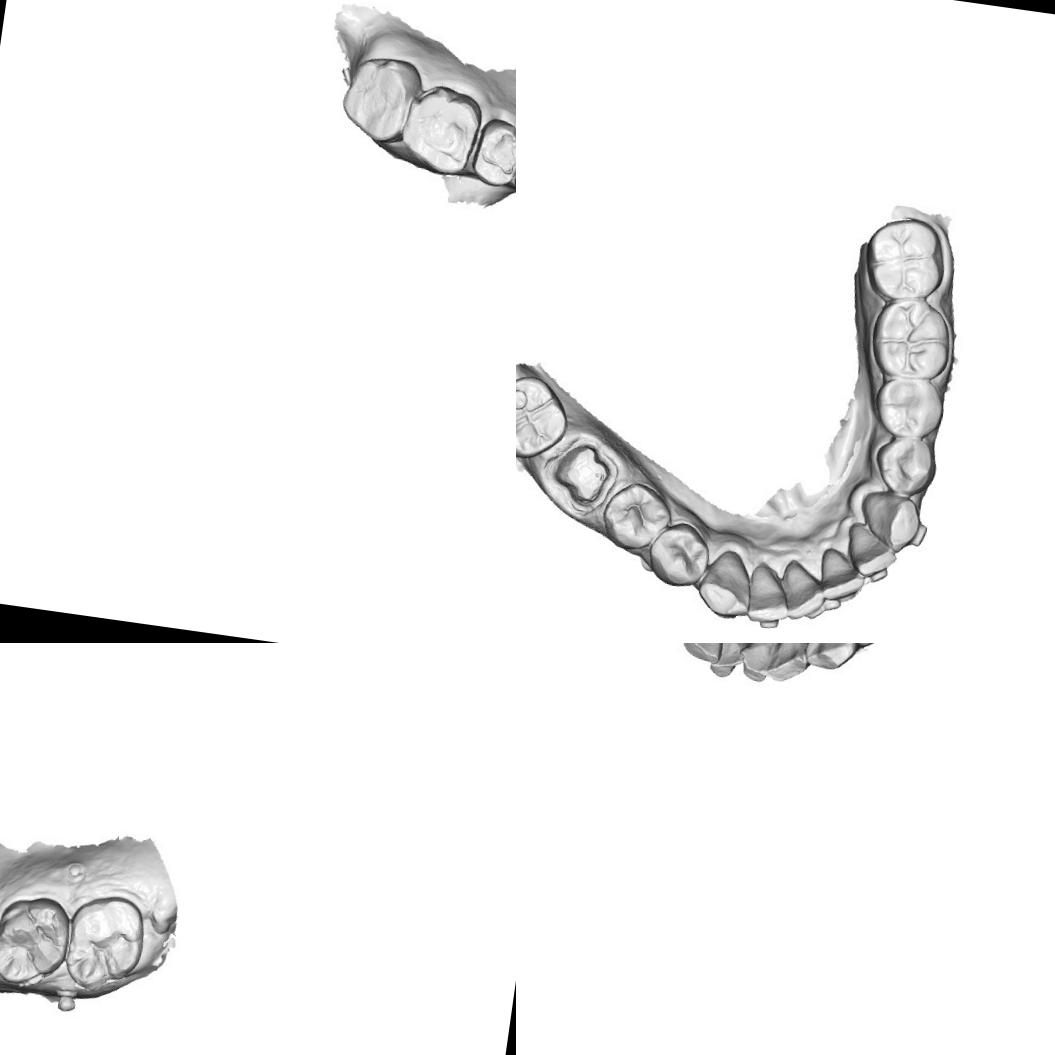canine: (692, 543, 759, 624), (855, 488, 920, 552), (802, 643, 864, 674)
crown: (548, 436, 616, 511)
incisor: (840, 522, 902, 588), (742, 558, 795, 628), (780, 559, 829, 625), (814, 547, 866, 608), (766, 643, 819, 688), (736, 643, 782, 686), (710, 643, 752, 682), (678, 643, 731, 664)
molar: (59, 888, 151, 997), (857, 208, 950, 307), (862, 291, 958, 386), (0, 890, 75, 992), (397, 86, 478, 174), (342, 52, 418, 139), (516, 368, 571, 464)
premolar: (596, 476, 678, 556), (866, 373, 948, 446), (642, 516, 714, 596), (872, 432, 940, 500), (468, 119, 516, 184)
